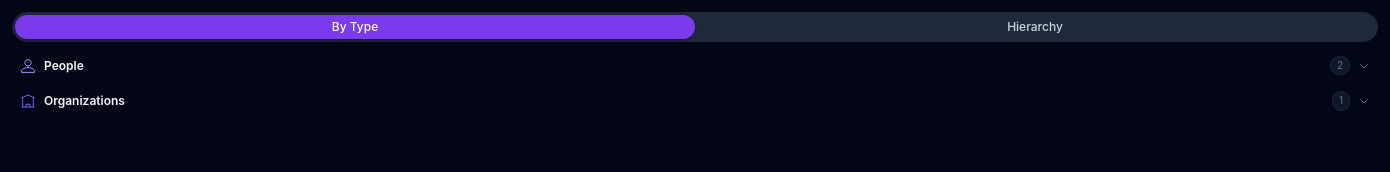
Test case: Hierarchy: switch to hierarchy mode — root nodes visible, collapsed by default
Step 1. Click the button "Hierarchy" → (1035, 27), box [695,15,1375,39]
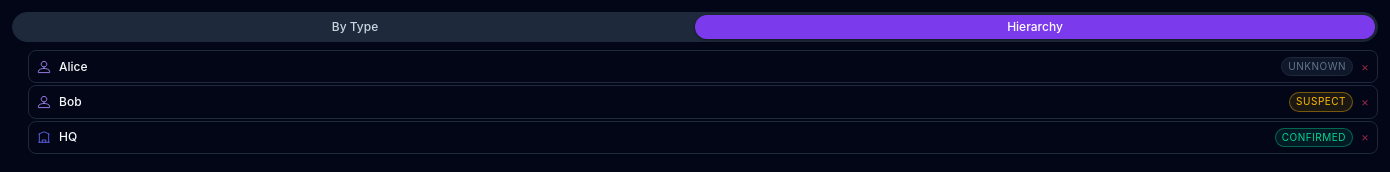
Expected: the button "Alice" is shown, [59,59,1273,75]
Expected: the button "Bob" is shown, [59,94,1281,110]
Expected: the button "HQ" is shown, [59,129,1267,145]
